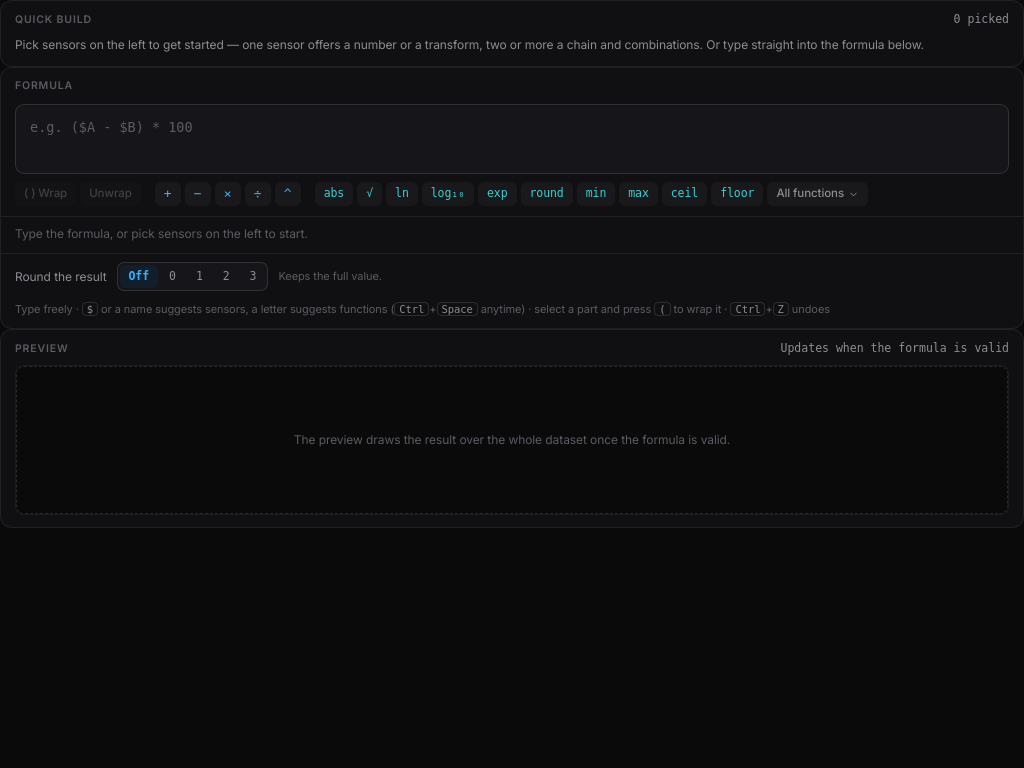
Test: the check line and the report › always sends the text to Rust (even when the cheap check fails); Rust has the last word
Type "round($A, 2)" into the text box named "Formula" at (512, 139), box [16,105,1008,173]
Wait 225 ms
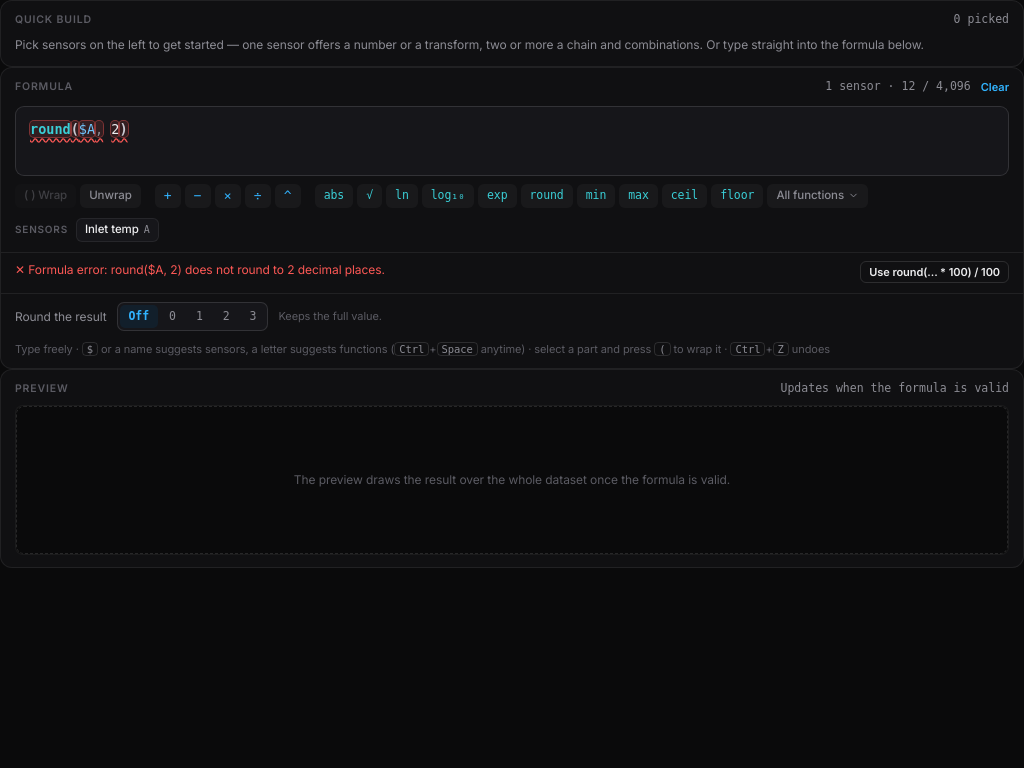
Expected: the message with test id "formula-check" shows "does not round to 2 decimal places", [15,260,852,278]
Click the button "Use round(… * 100) / 100" at (935, 272), box [860,260,1009,283]
Wait 225 ms
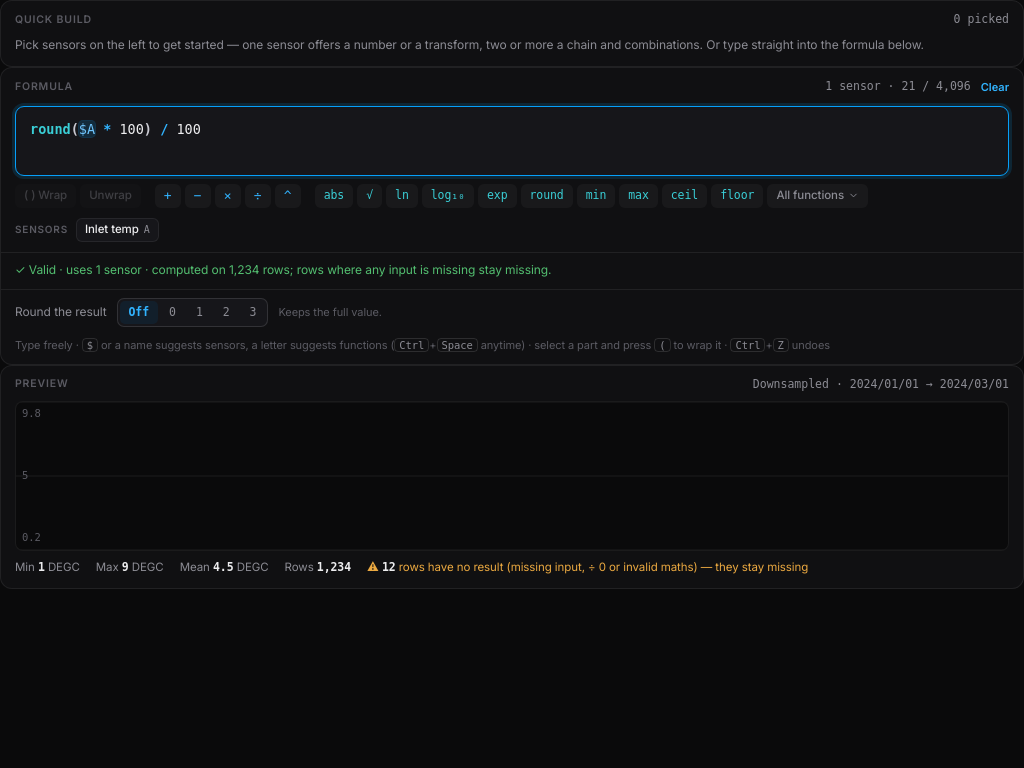
Expected: the text box named "Formula" holds "round($A * 100) / 100", [16,106,1008,174]
Expected: the message with test id "formula-check" shows "✓ Valid · uses 1 sensor · computed on 1,234 rows", [1,252,1023,288]
